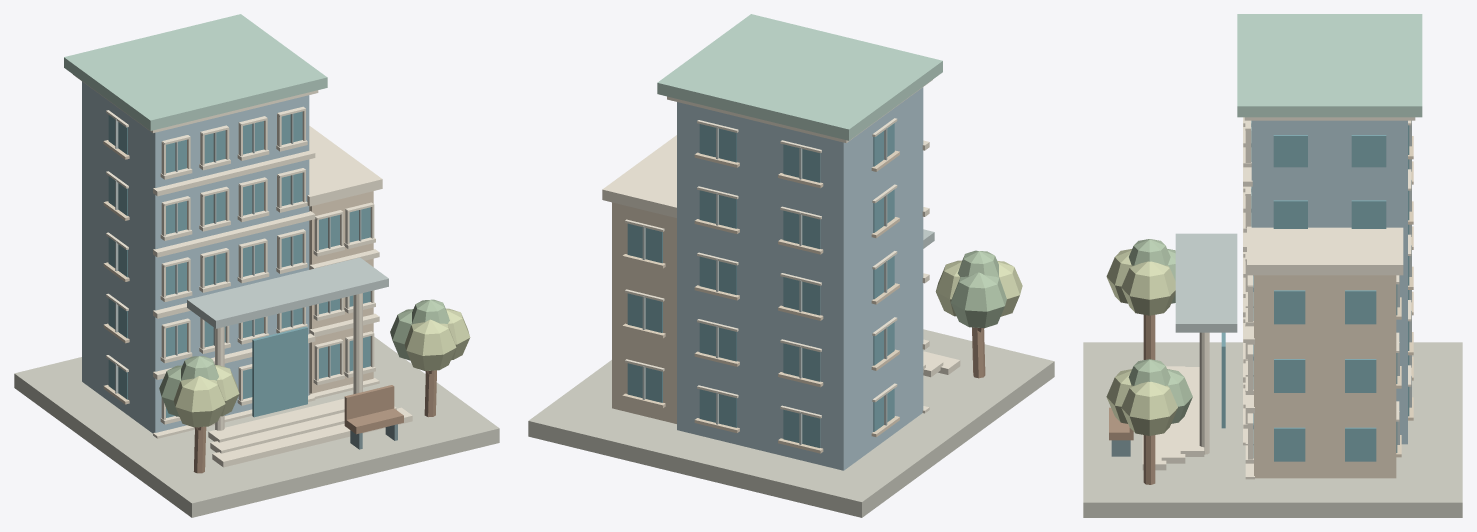
The model's file is dot-tpl-office-2.glb.
The picture shows the model from 3 angles, left to right: view 1: azimuth 30°, elevation 25°; view 2: azimuth 150°, elevation 25°; view 3: azimuth 270°, elevation 25°; orthographic projection. The views are drawn at different scales.
Visible parts, largest first — view 1: paving; view 2: paving; view 3: paving.
Part boxes in pixels (bbox=[...]): paving: bbox=[14, 14, 499, 517]; paving: bbox=[528, 14, 1054, 517]; paving: bbox=[1083, 14, 1462, 517].
Size of the model in its own units: 4 by 4.19 by 4.
Materials: 1 (1 with a texture image).
